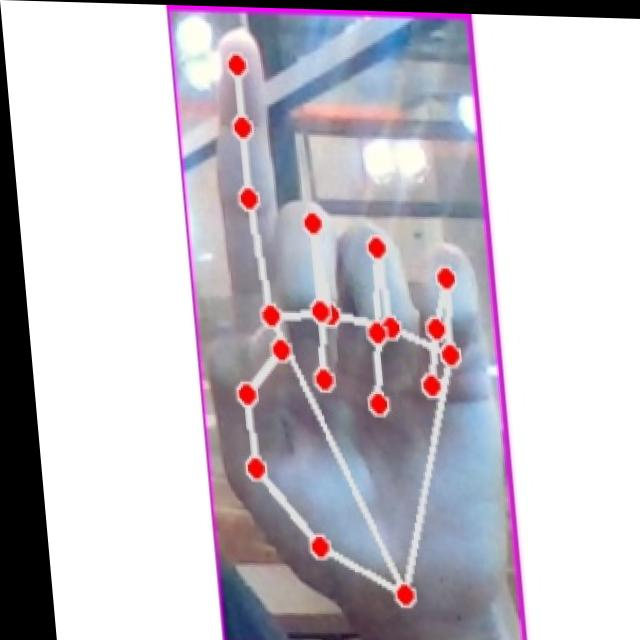D: (178, 20, 499, 625)
